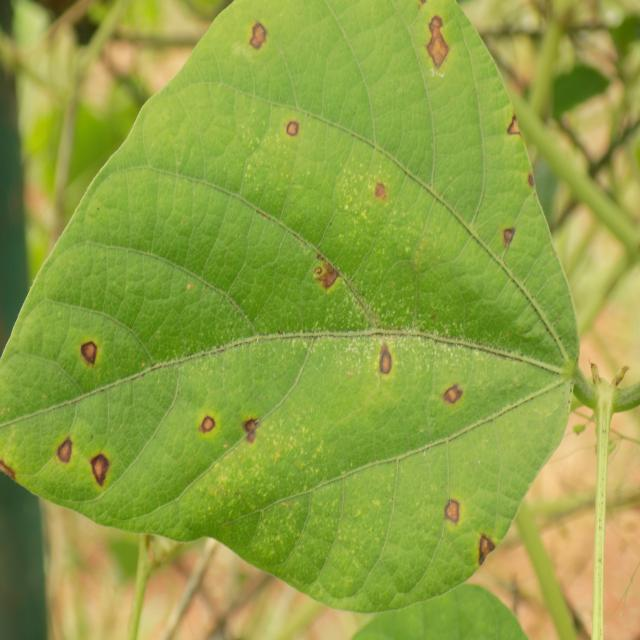Dolicos bean_cercospora leaf spot: (0, 0, 578, 612)
